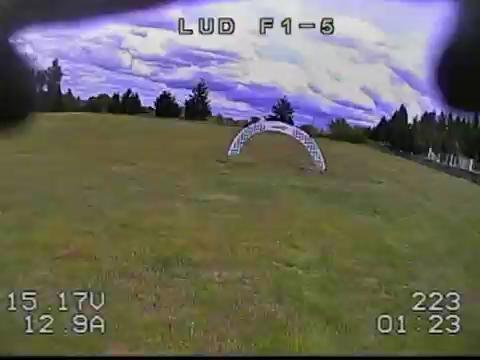gate: (226, 121, 326, 174)
